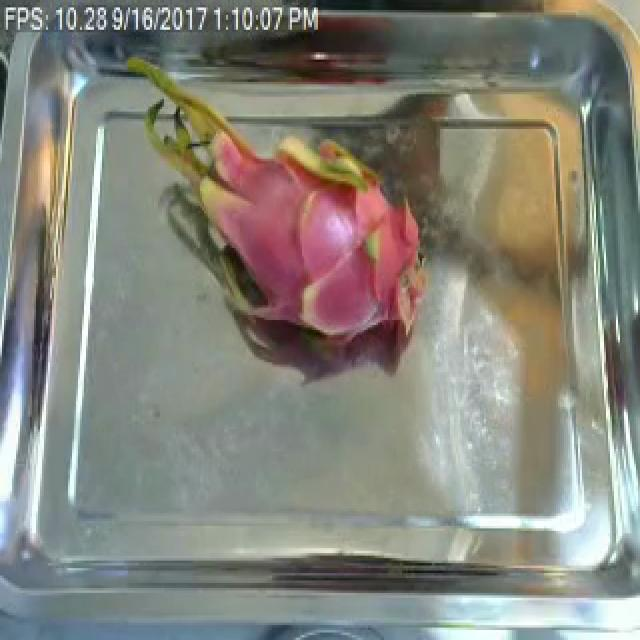fruit: (116, 57, 436, 392)
